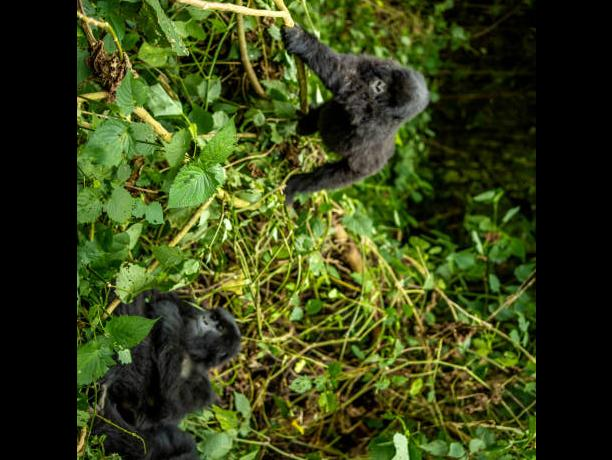goriile_montagne: (284, 29, 447, 209), (109, 292, 256, 460)
